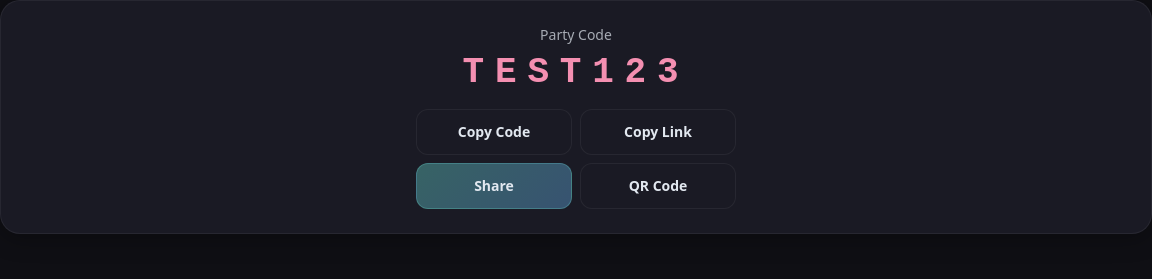
Test case: PartyCode Component › Error Handling › handles clipboard writeText rejection on Copy Code
Should not throw
Click the button "Copy Code".
click(494, 132)  # box [416,109,572,155]
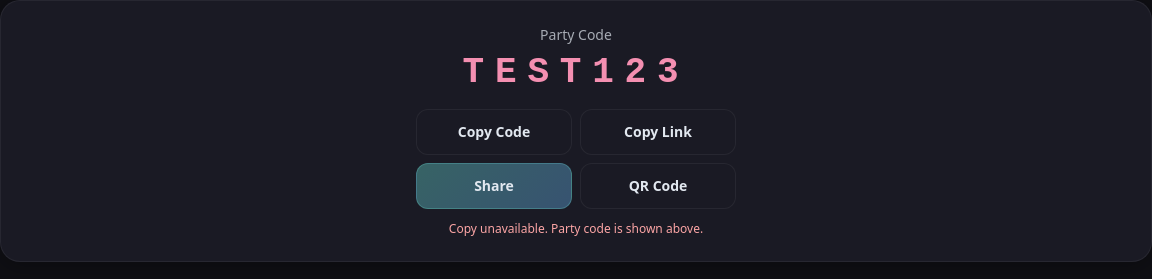
Check: the text "Copy unavailable. Party code is shown above." is shown, box [449,220,703,237]
